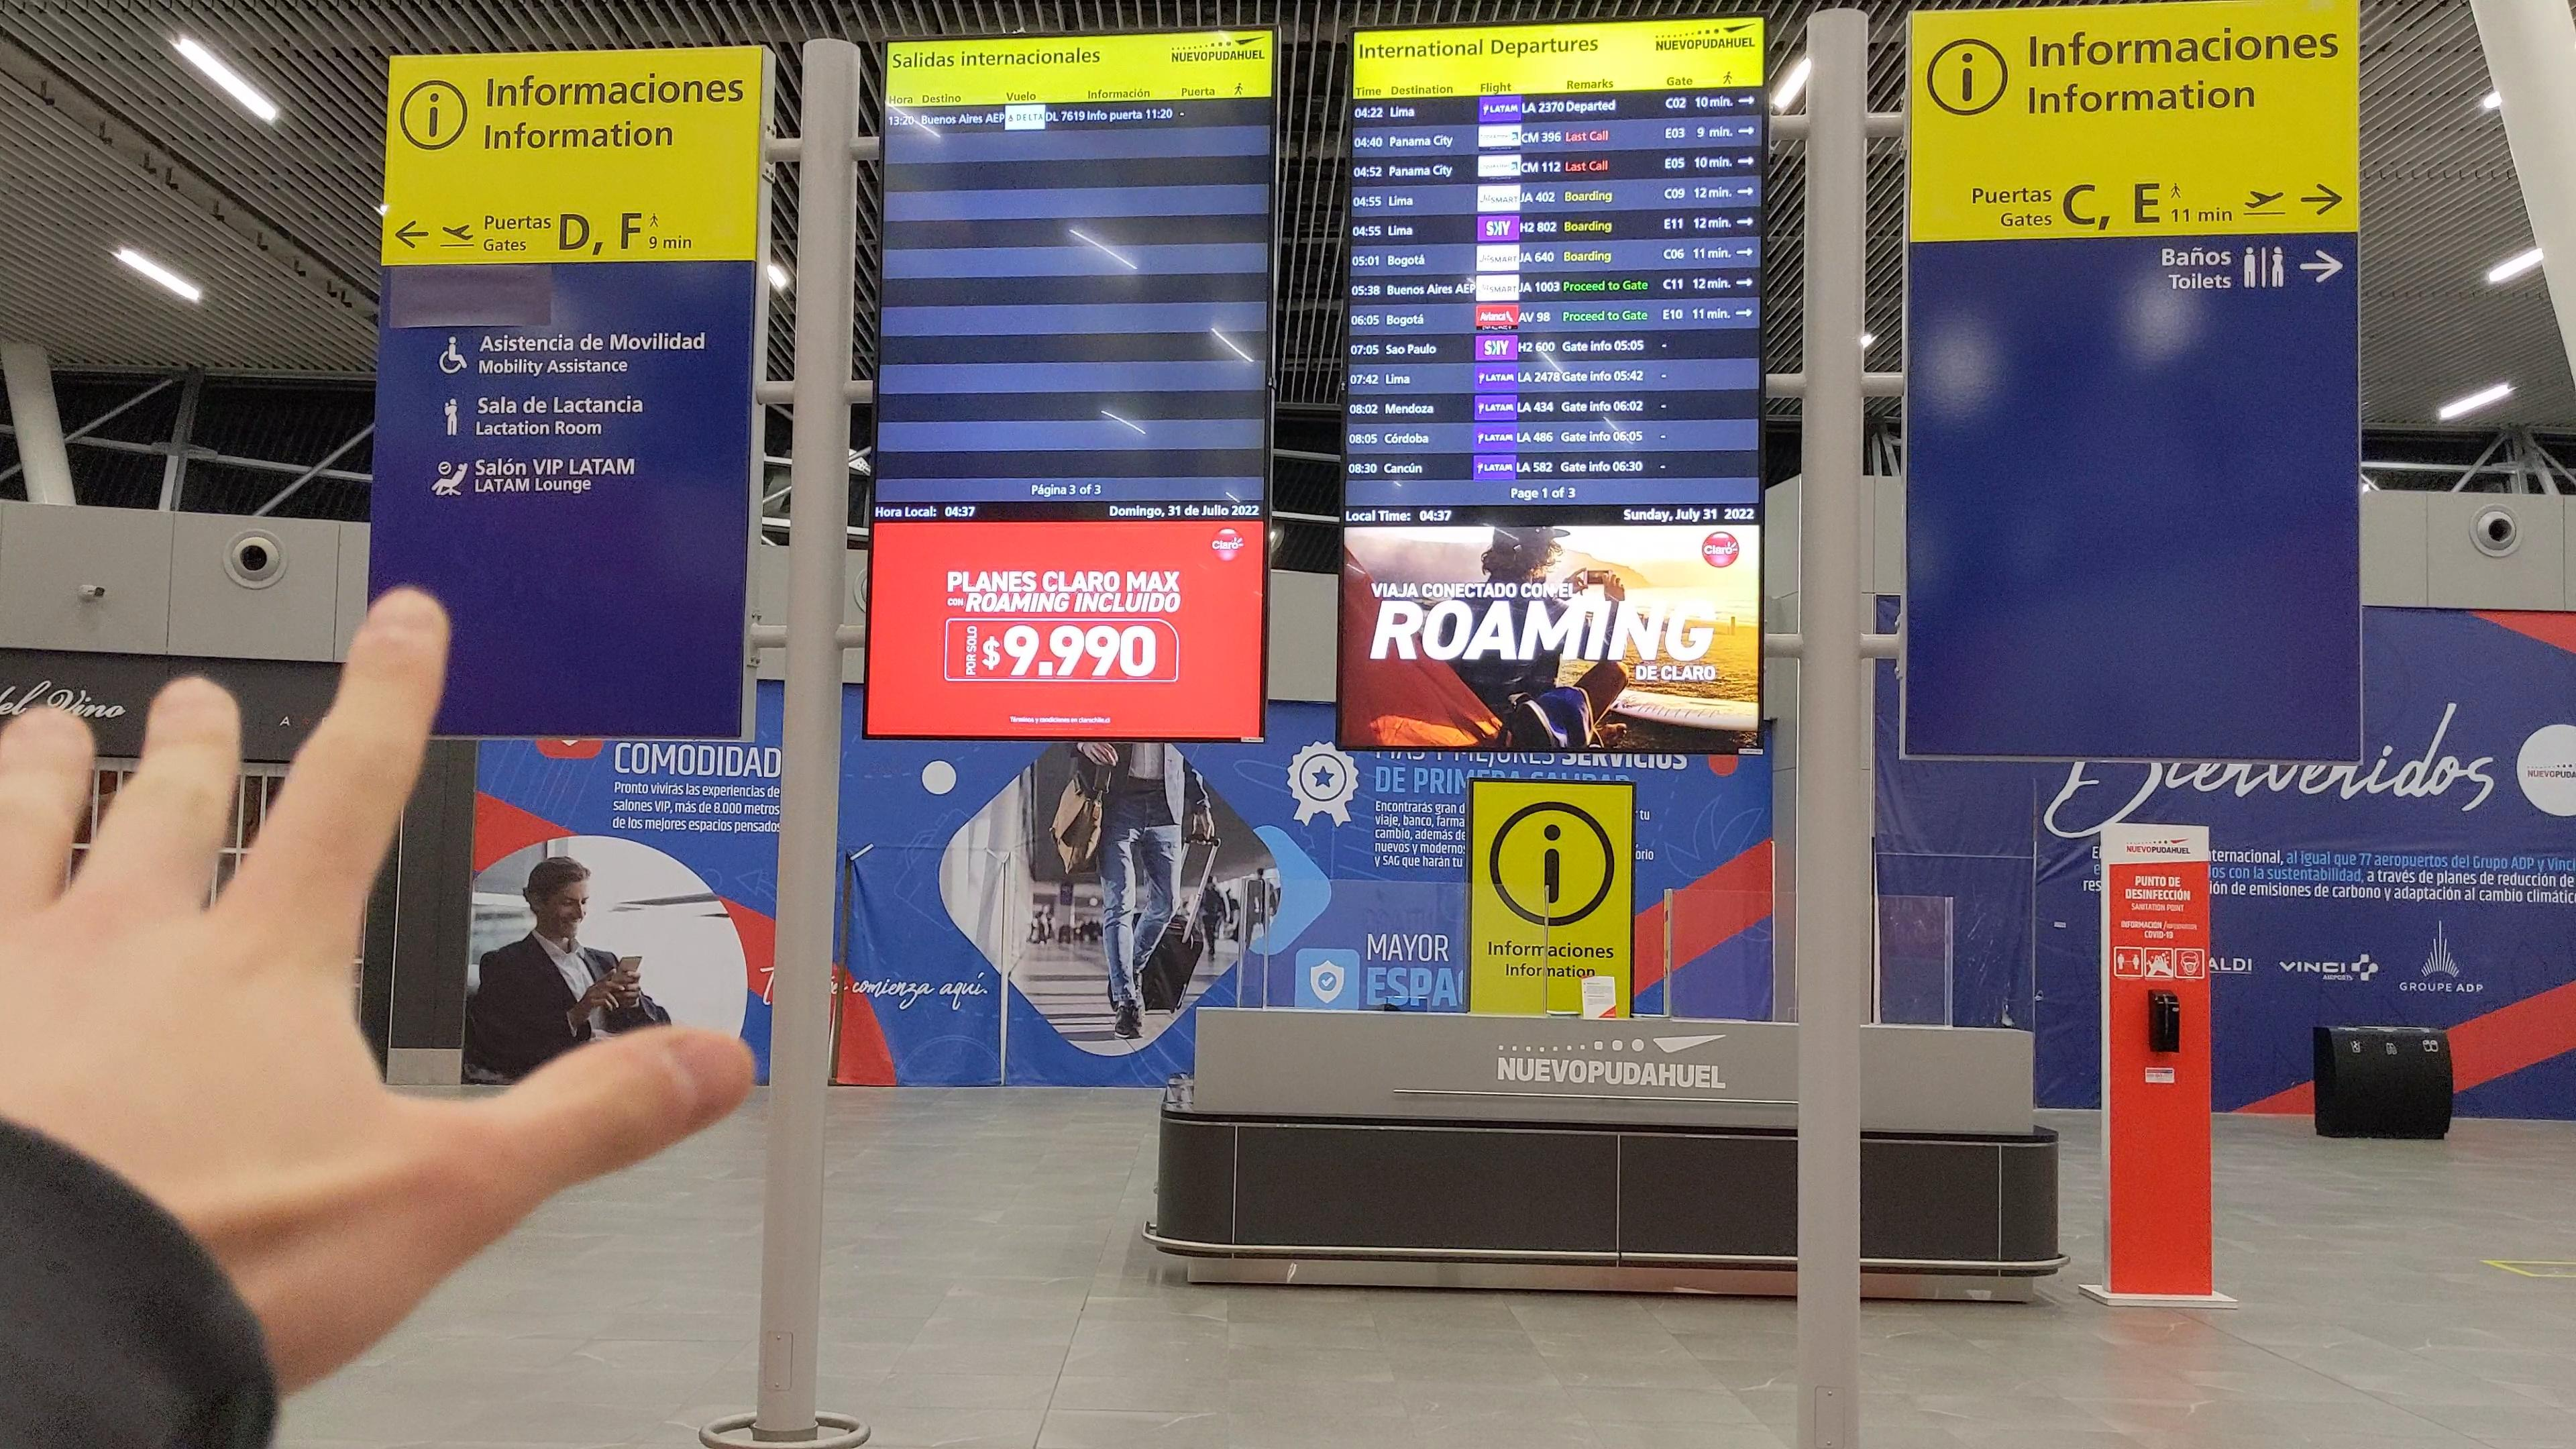airplane symbol: (2242, 188, 2286, 211), (441, 223, 476, 242)
bathrooms: (2240, 244, 2289, 292)
handicapped symbol: (439, 334, 469, 375)
thin left arrow: (391, 219, 432, 249)
thin right arrow: (2298, 248, 2346, 287), (2298, 182, 2346, 218)
